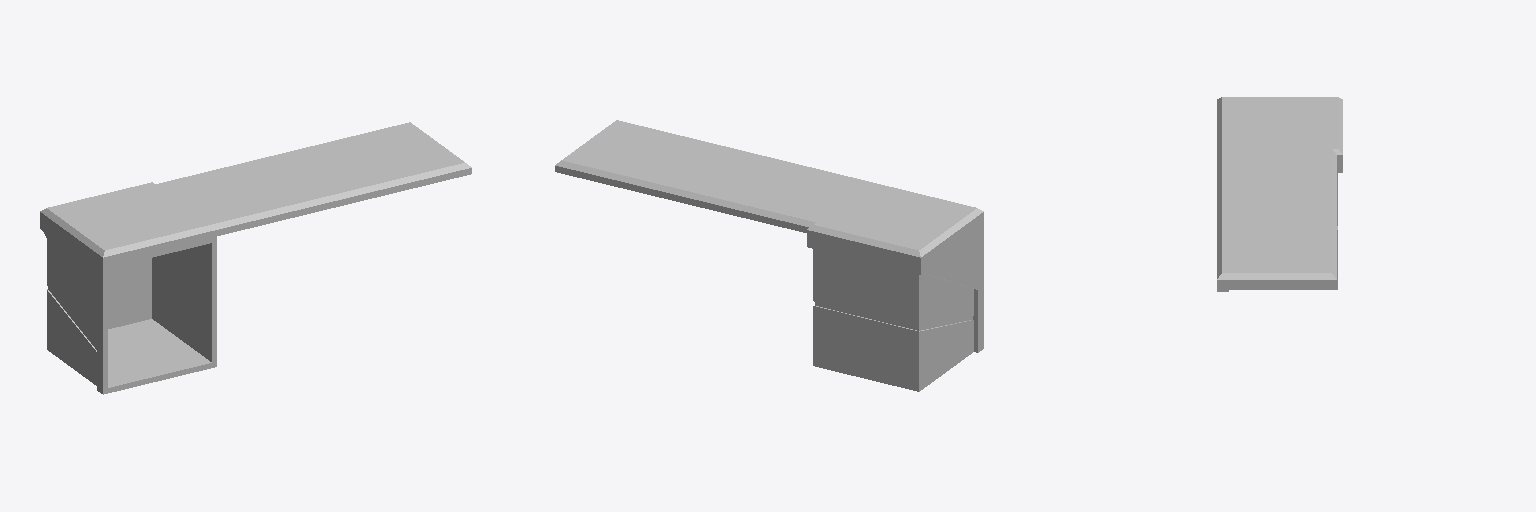
Rendered from desk1.obj.
3 views of the same model, side by side, from view 1: azimuth 30°, elevation 25°; view 2: azimuth 150°, elevation 25°; view 3: azimuth 270°, elevation 25° (orthographic).
Parts seen in each view (by area): view 1: Mesh1_Group2_Group1_Model; view 2: Mesh1_Group2_Group1_Model; view 3: Mesh1_Group2_Group1_Model.
Part boxes in pixels (left/top/right/bottom): Mesh1_Group2_Group1_Model: left=40, top=122, right=471, bottom=394; Mesh1_Group2_Group1_Model: left=555, top=120, right=983, bottom=391; Mesh1_Group2_Group1_Model: left=1217, top=97, right=1342, bottom=291.
Size of the model in its own units: 1775 by 650 by 525.